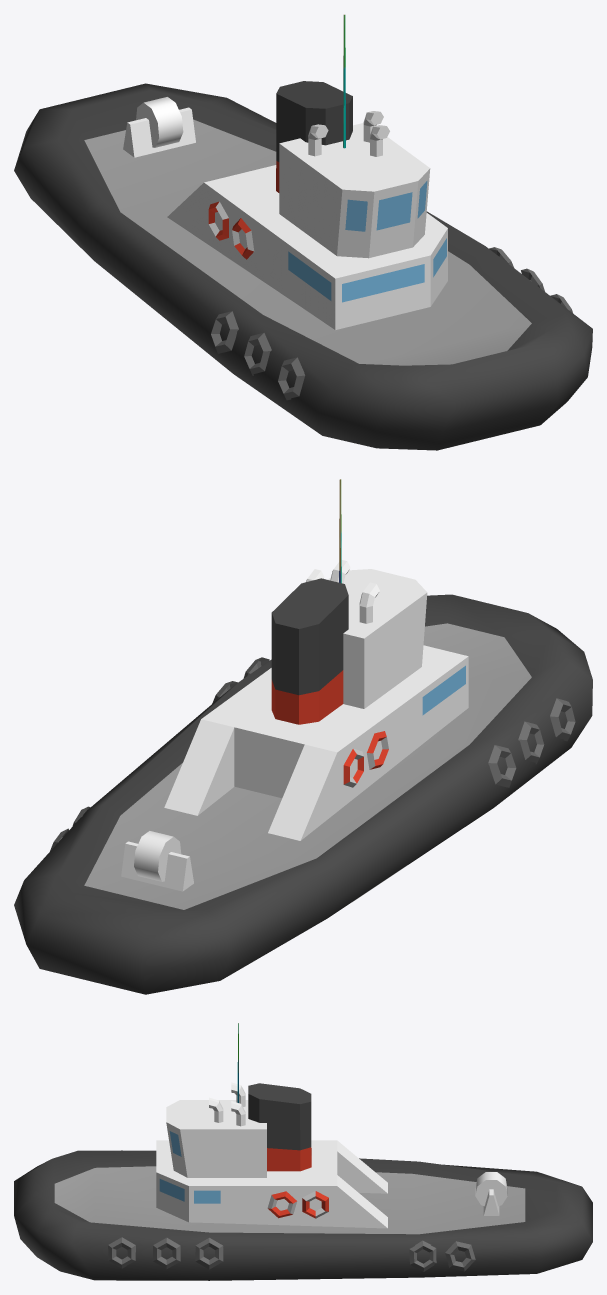
Rendered from Boat.fbx.
3 views of the same model, one above another, from view 1: azimuth 30°, elevation 25°; view 2: azimuth 150°, elevation 25°; view 3: azimuth 270°, elevation 25° (orthographic). The views are drawn at different scales.
Visible parts, largest first — view 1: Boat; view 2: Boat; view 3: Boat.
Part boxes in pixels (x1,y1,x2,y2): Boat: [14, 14, 592, 450]; Boat: [14, 479, 592, 994]; Boat: [14, 1023, 592, 1280].
Bounding box in the file's own units: 2.14 × 2.2 × 5.26.
